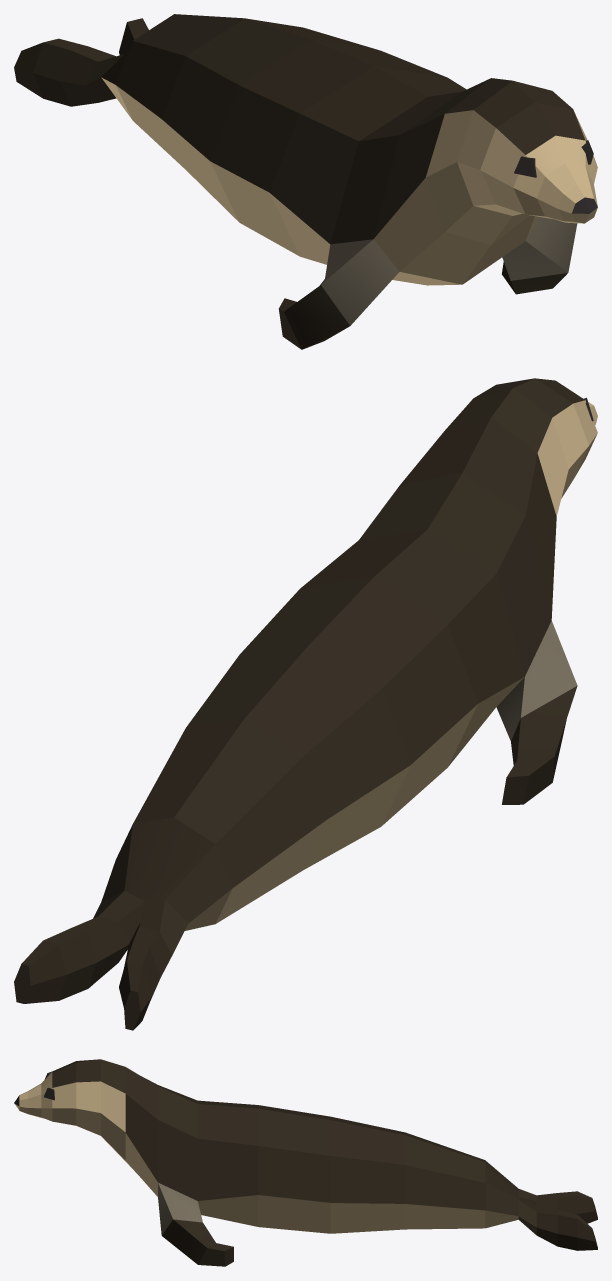
File: 52abfcb3-f9b2-47bd-b524-7bdf4811e01b.glb
3 views of the same model, one above another, from view 1: azimuth 30°, elevation 25°; view 2: azimuth 150°, elevation 25°; view 3: azimuth 270°, elevation 25° (orthographic). The views are drawn at different scales.
Parts seen in each view (by area): view 1: Geo_Seal; view 2: Geo_Seal; view 3: Geo_Seal.
Part boxes in pixels (x1,y1,x2,y2): Geo_Seal: [14, 14, 597, 349]; Geo_Seal: [14, 378, 597, 1030]; Geo_Seal: [14, 1059, 597, 1266].
Size of the model in its own units: 39.88 by 44.11 by 131.
Materials: 1 (1 with a texture image).
